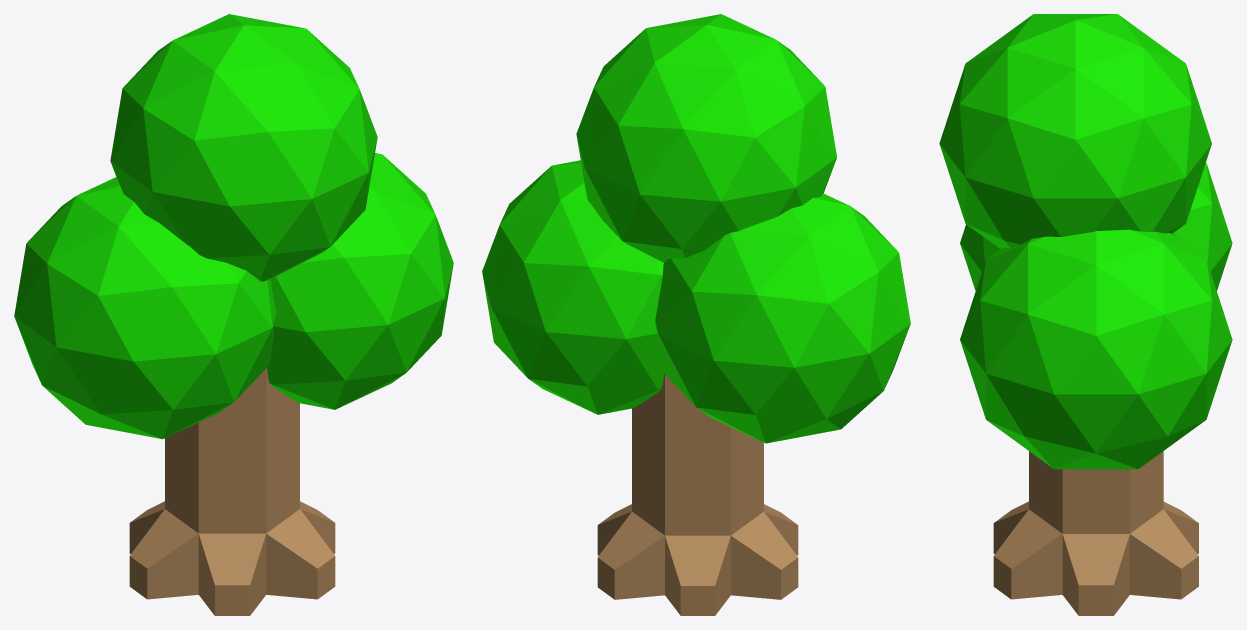
Rendered from AppleTree.fbx.
3 views of the same model, side by side, from view 1: azimuth 30°, elevation 25°; view 2: azimuth 150°, elevation 25°; view 3: azimuth 270°, elevation 25° (orthographic). The views are drawn at different scales.
Visible parts, largest first — view 1: Icosphere; view 2: Icosphere; view 3: Icosphere.
Part boxes in pixels (x1,y1,x2,y2): Icosphere: [14, 14, 453, 615]; Icosphere: [482, 14, 910, 615]; Icosphere: [939, 14, 1232, 615].
Size of the model in its own units: 496 by 659 by 318.
Materials: 2 (1 with a texture image).
